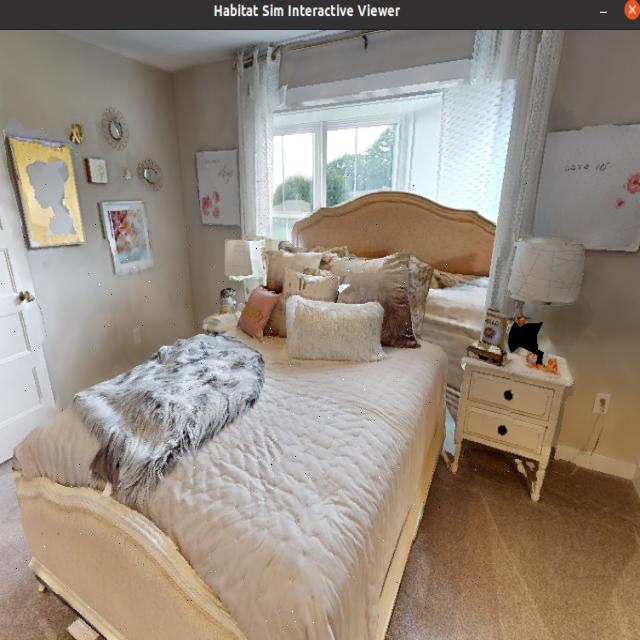bed: (12, 173, 517, 640)
door: (0, 58, 63, 514)
